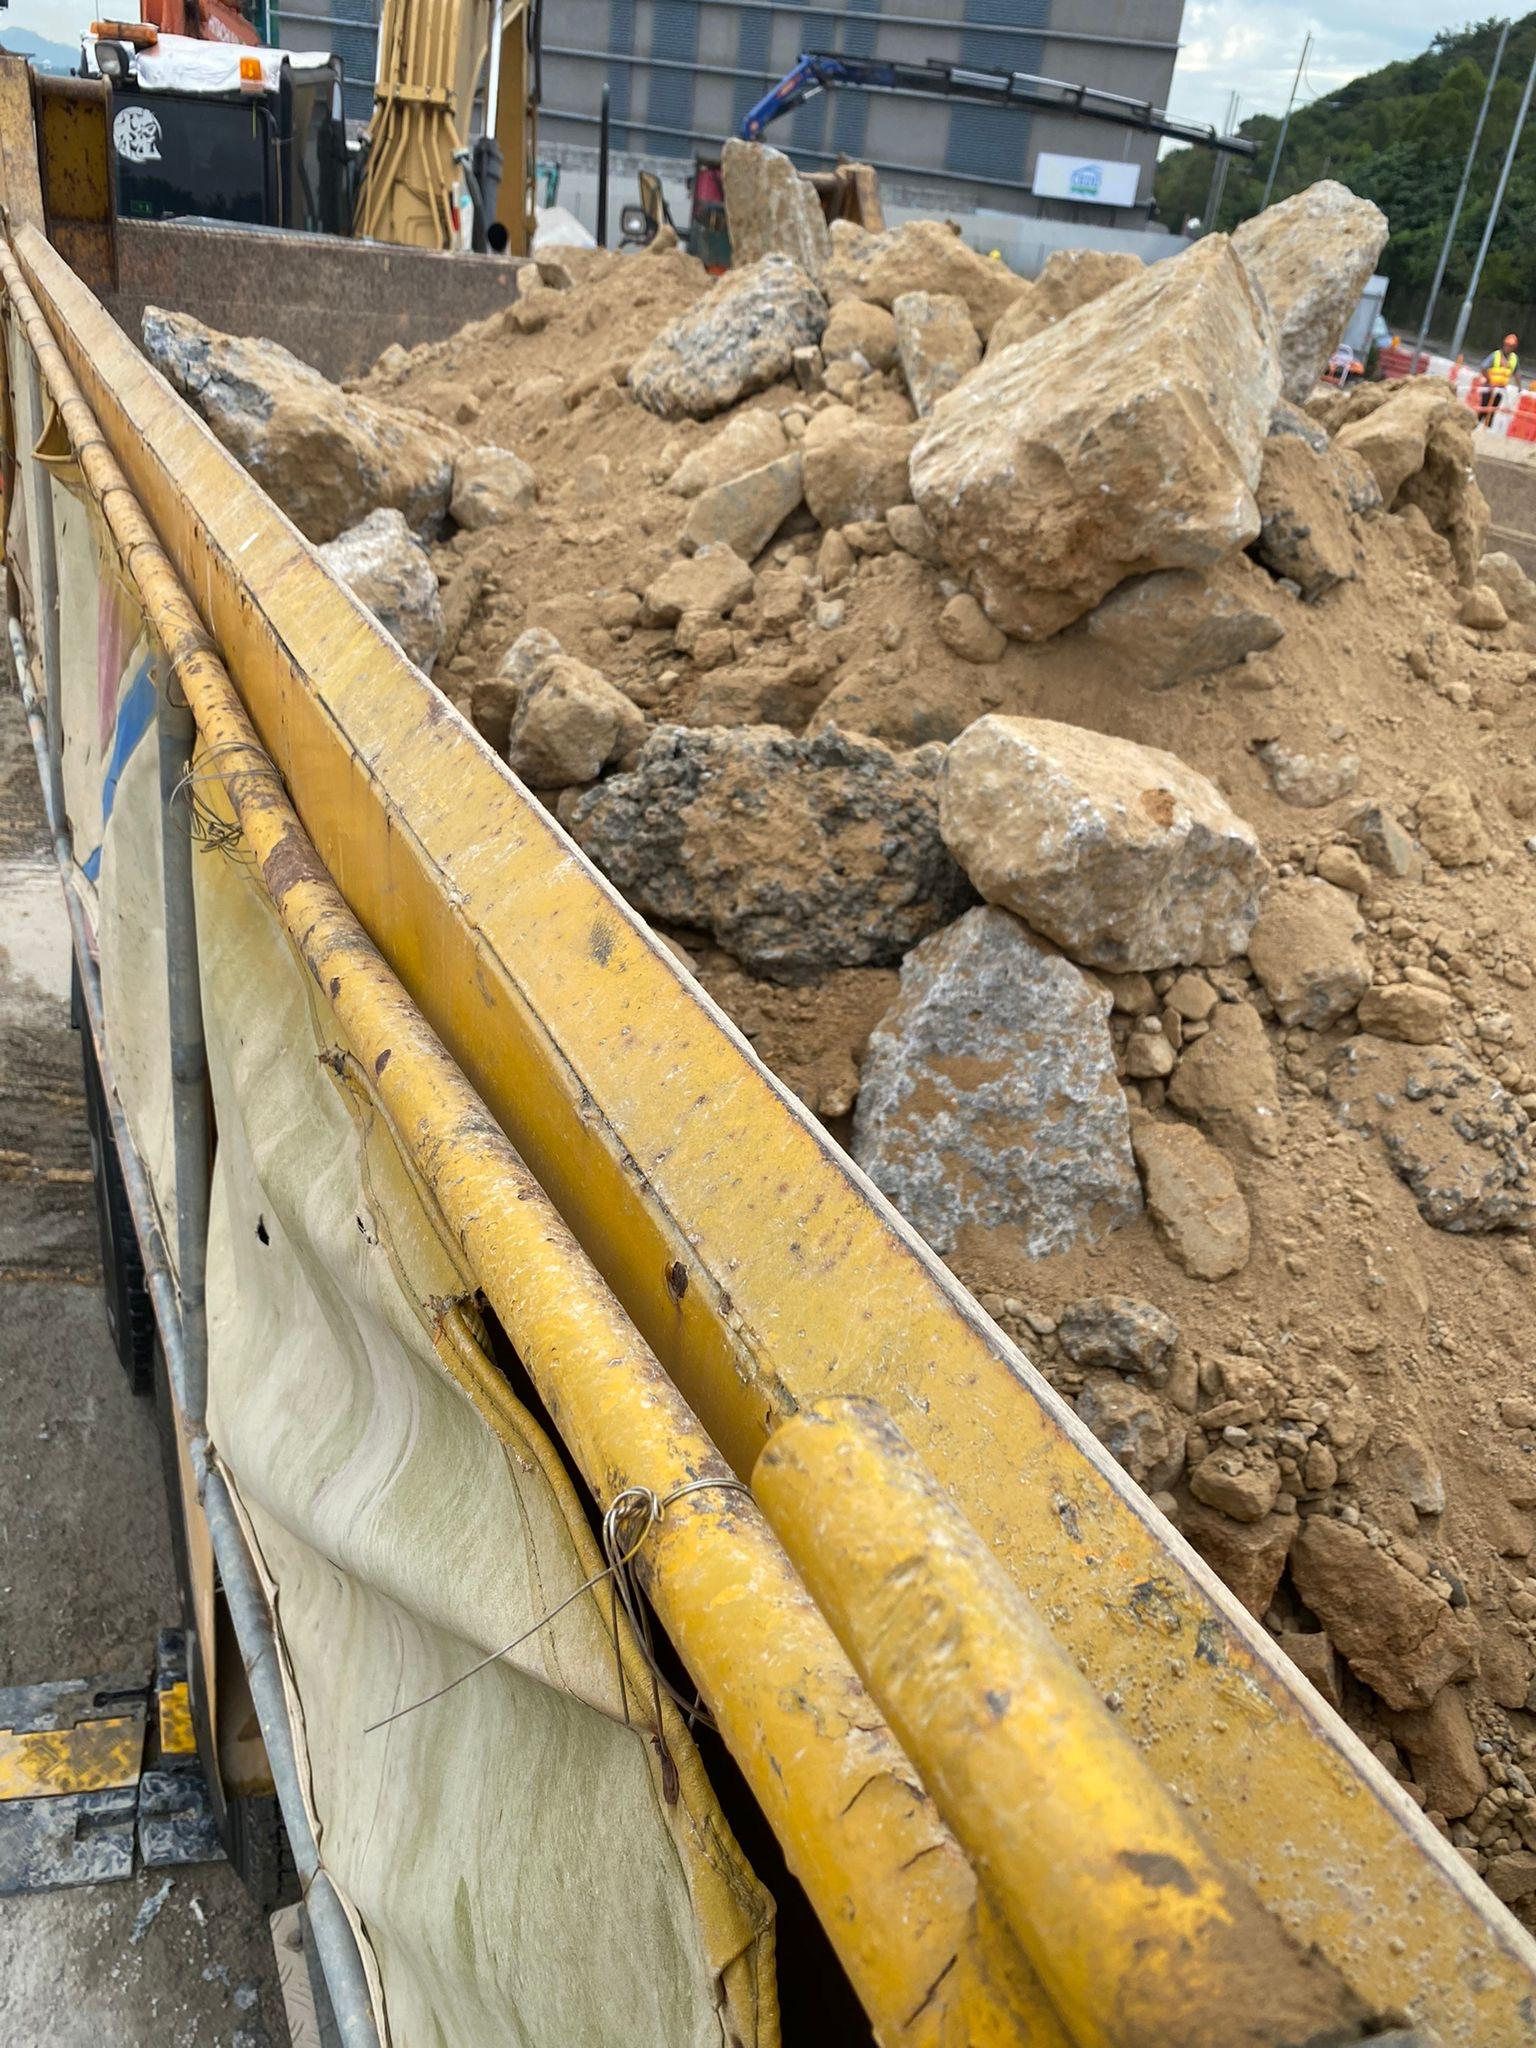dry: (163, 260, 1530, 1890)
